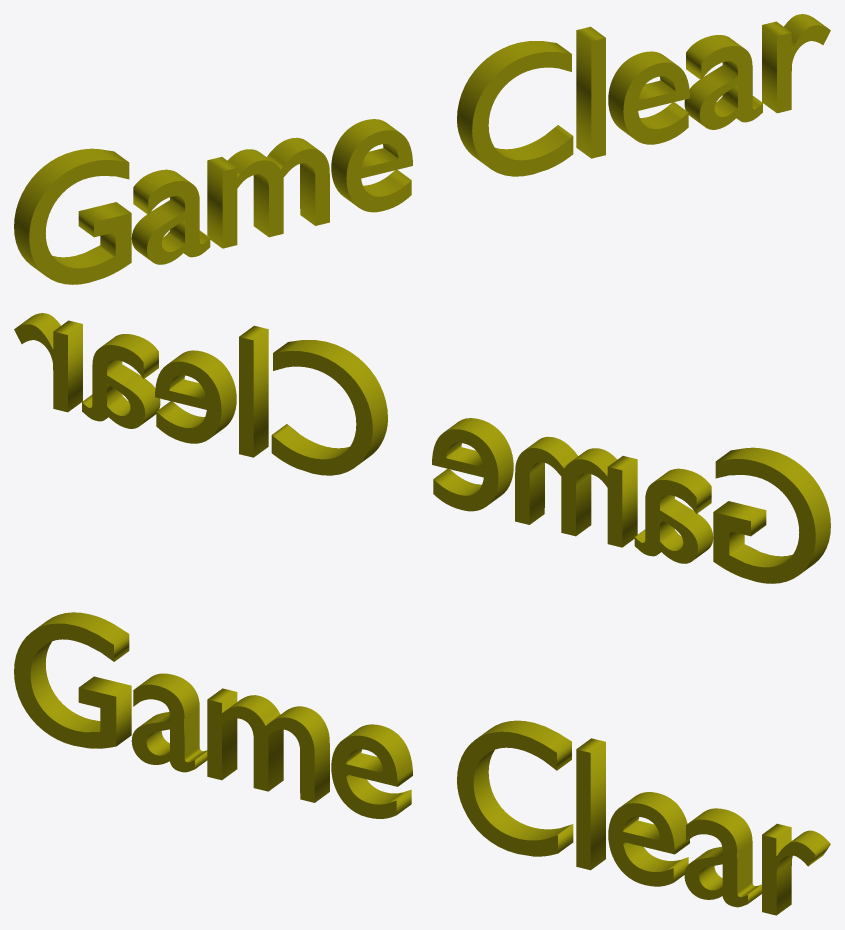
The model's file is UI_gameclear.obj.
3 renders of one model, top to bottom at view 1: azimuth 30°, elevation 25°; view 2: azimuth 150°, elevation 25°; view 3: azimuth 330°, elevation 25°, orthographic.
Visible parts, largest first — view 1: テキスト; view 2: テキスト; view 3: テキスト.
Boxes of the visible parts, x1,y1,x2,y2 form: テキスト: (14, 14, 830, 284); テキスト: (14, 313, 830, 583); テキスト: (14, 612, 830, 915).
Bounding box in the file's own units: 4.88 × 0.7 × 0.16.
Materials: 1 (1 with a texture image).
